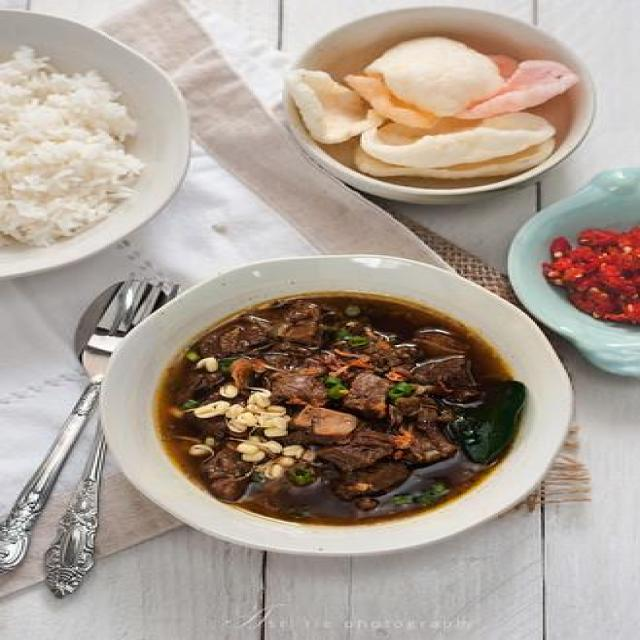Rawon: (168, 297, 494, 513)
